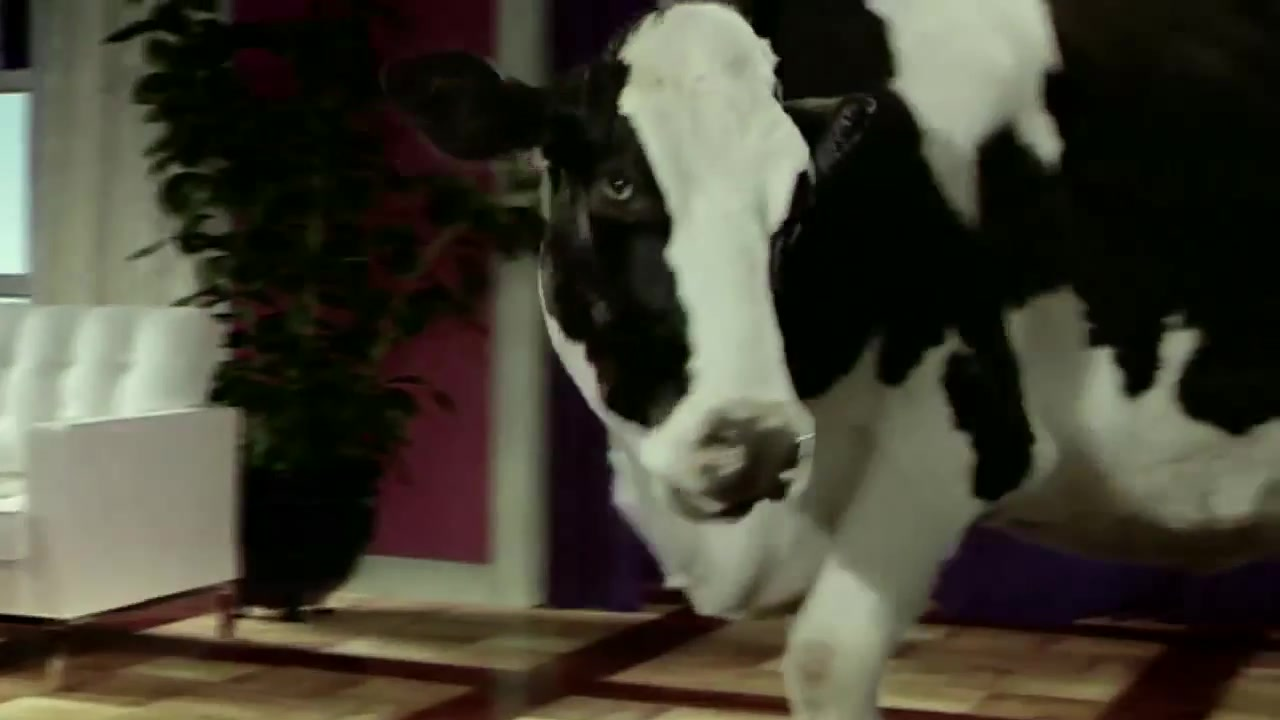cow: (384, 1, 1280, 720)
